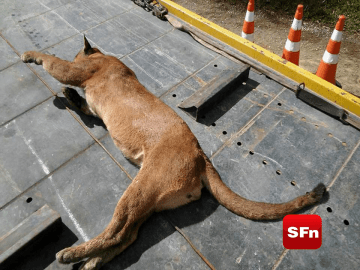OncaParda: (15, 34, 268, 270)
